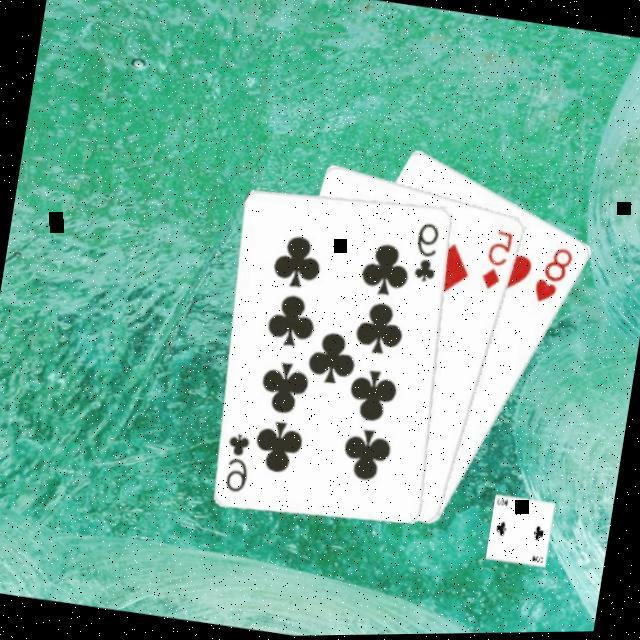5D: (478, 227, 519, 297)
8H: (530, 244, 580, 312)
9C: (220, 429, 260, 498), (409, 220, 449, 288)
